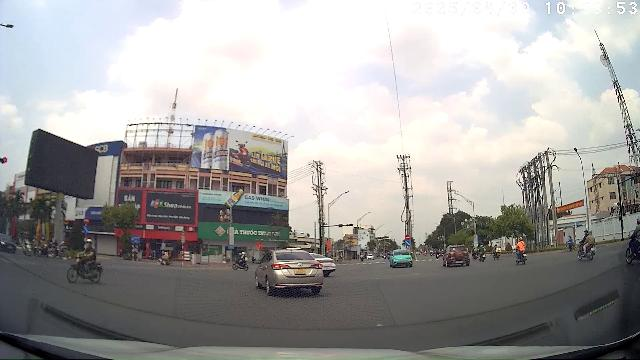102-cam-di-nguoc-chieu: (83, 216, 90, 224), (405, 234, 411, 240)
302a-huong-phai-di-vong-chuong-ngai-vat-1: (82, 225, 91, 234), (404, 240, 411, 246)
